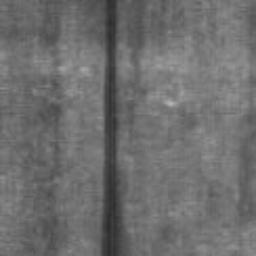Scratches: (101, 0, 122, 256)
